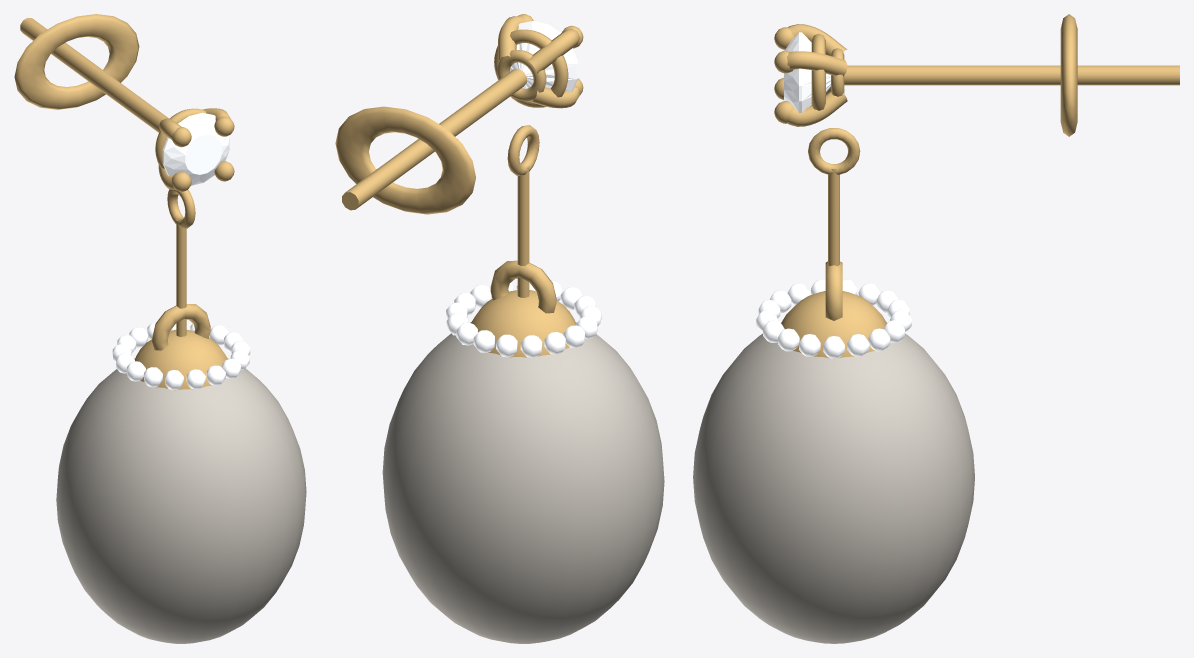
Rendered from pearl-drop.glb.
3 views of the same model, side by side, from view 1: azimuth 30°, elevation 25°; view 2: azimuth 150°, elevation 25°; view 3: azimuth 270°, elevation 25° (orthographic). The views are drawn at different scales.
Visible parts, largest first — view 1: pearl-drop_pearl, pearl-drop_gold18k, pearl-drop_diamond; view 2: pearl-drop_pearl, pearl-drop_gold18k, pearl-drop_diamond; view 3: pearl-drop_pearl, pearl-drop_gold18k, pearl-drop_diamond.
Boxes of the visible parts, x1,y1,x2,y2 form: pearl-drop_pearl: (56, 358, 306, 643); pearl-drop_gold18k: (14, 14, 234, 390); pearl-drop_diamond: (112, 113, 250, 390); pearl-drop_pearl: (382, 322, 664, 643); pearl-drop_gold18k: (335, 14, 583, 357); pearl-drop_diamond: (446, 21, 601, 357); pearl-drop_pearl: (693, 333, 974, 643); pearl-drop_gold18k: (774, 14, 1179, 358); pearl-drop_diamond: (756, 32, 911, 358).
Size of the model in its own units: 0.84 by 2 by 1.45.
